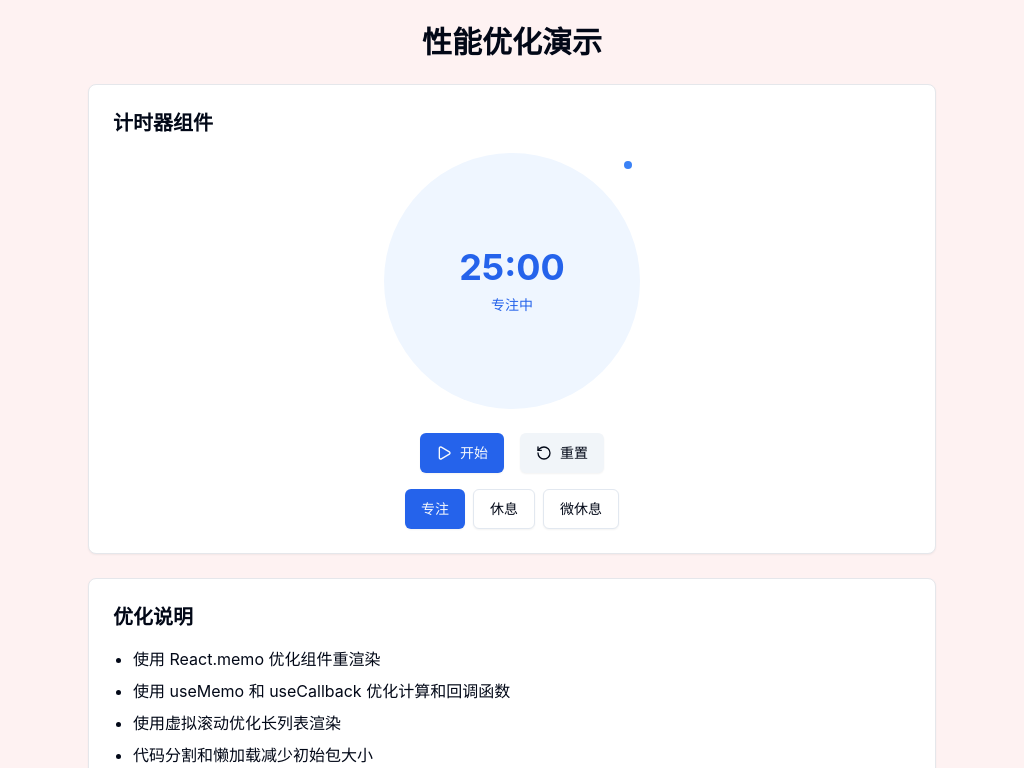
Scenario: TimerDisplay 性能优化测试 › 基准测试 › 应该控制计时器状态
Click the button "开始". click: click(462, 453)
box: [420,433,504,473]
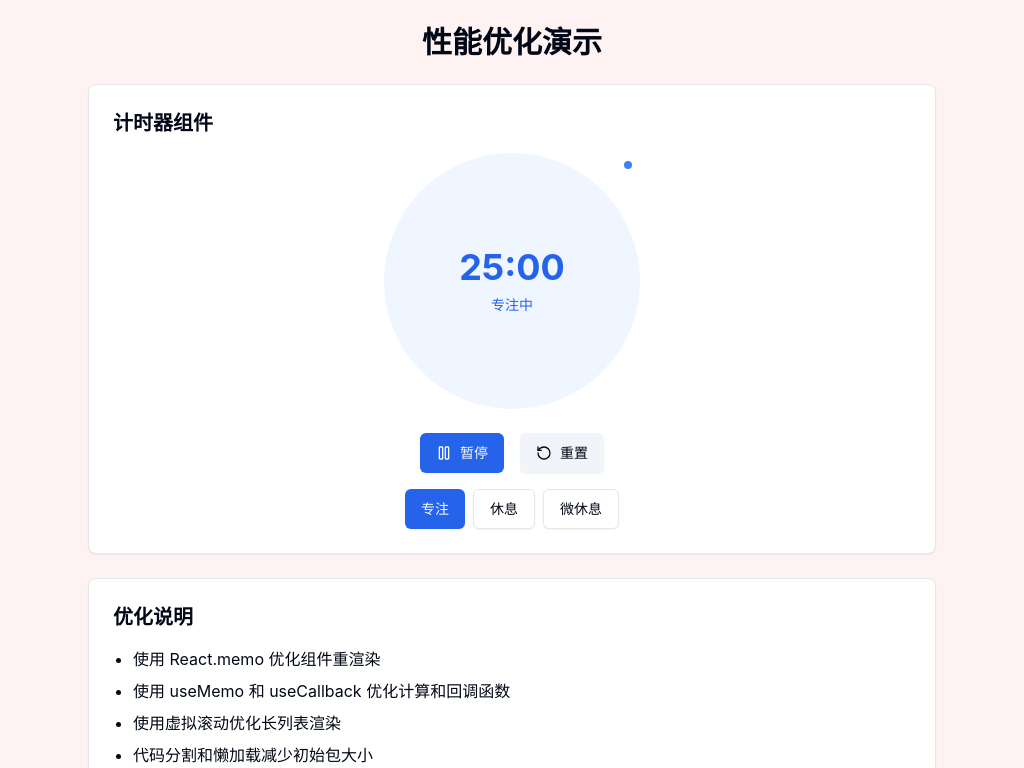
expect the text "暂停" is shown: met, box [460,443,488,463]
Click the button "暂停". click: click(462, 453)
box: [420,433,504,473]
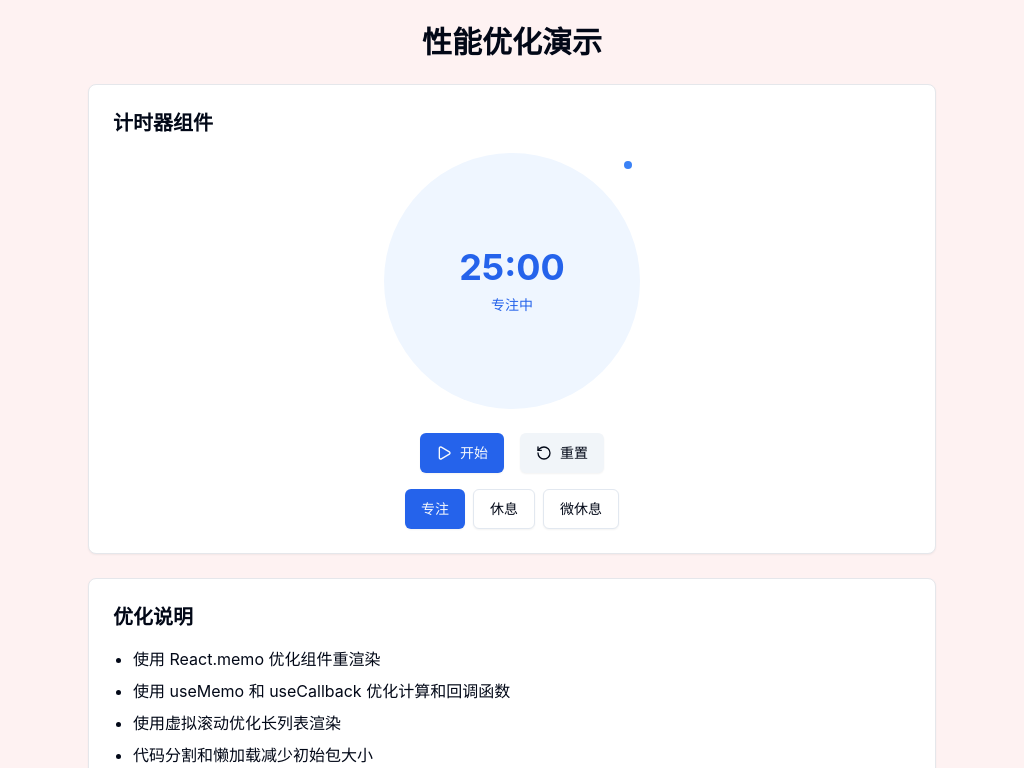
expect the text "开始" is shown: met, box [460,443,488,463]
